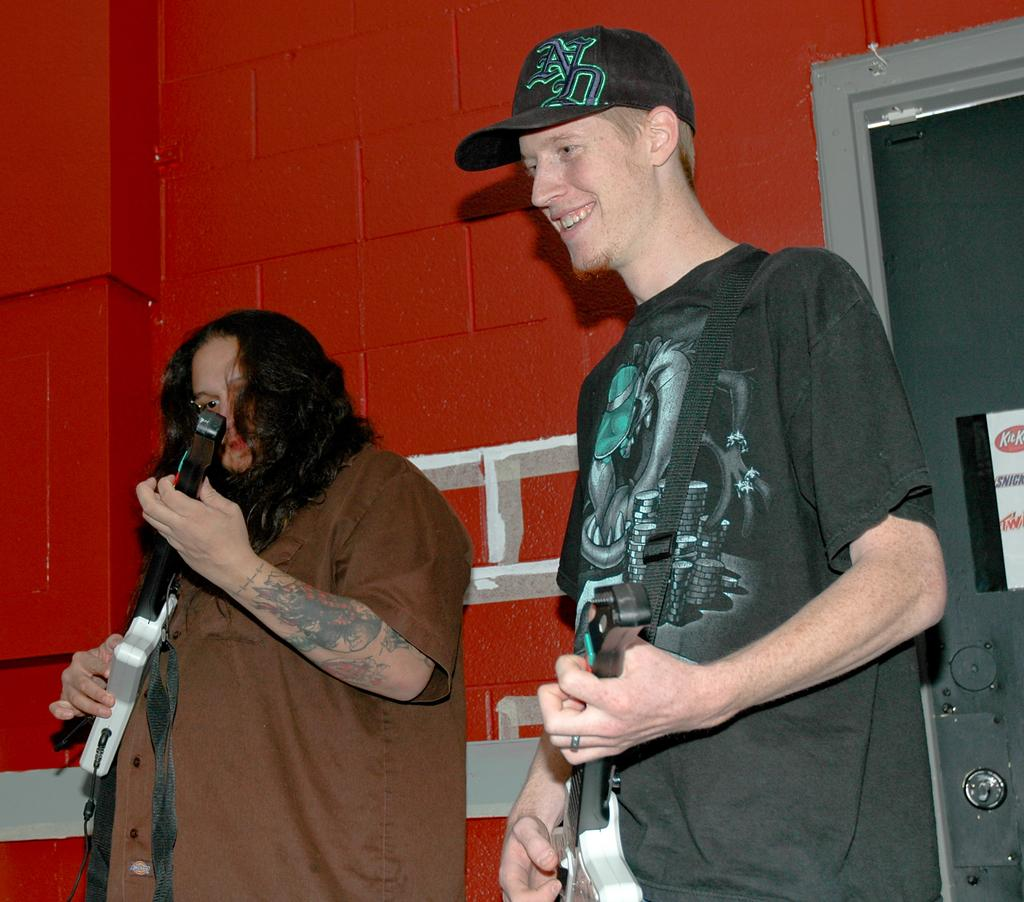Hat: (456, 23, 703, 170)
